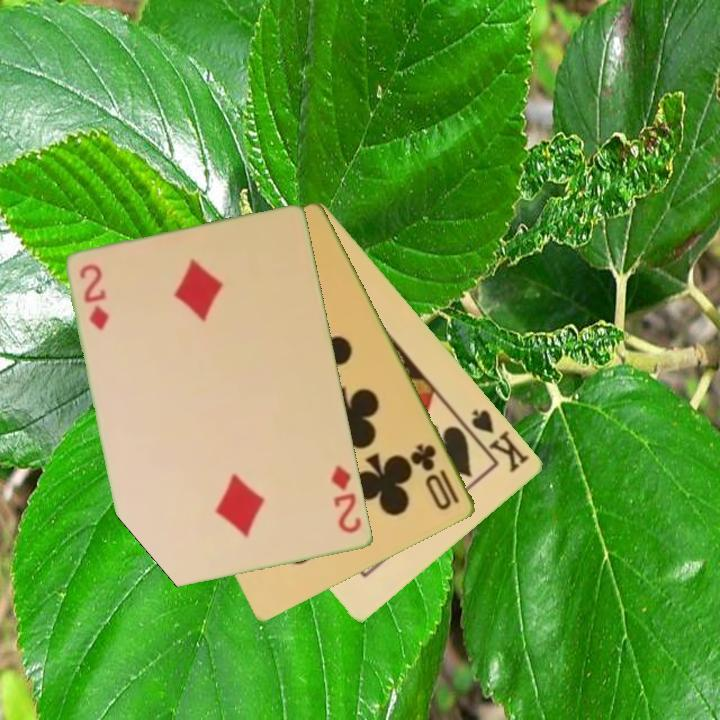10c: (408, 440, 463, 514)
2d: (328, 461, 365, 537), (76, 260, 113, 334)
Ks: (459, 405, 533, 476)
